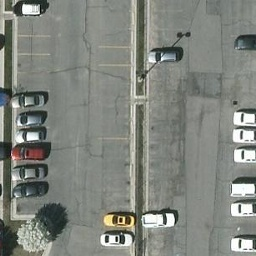car: (11, 143, 49, 161), (10, 162, 48, 180), (11, 179, 49, 197), (96, 211, 134, 229), (99, 228, 137, 246), (140, 210, 178, 228), (145, 44, 183, 62), (10, 92, 44, 109), (12, 1, 43, 17), (232, 234, 256, 252), (16, 111, 44, 126), (15, 128, 43, 143), (232, 33, 256, 50), (232, 109, 256, 126), (232, 126, 256, 143), (232, 146, 256, 163), (232, 181, 256, 198), (232, 198, 256, 215)
